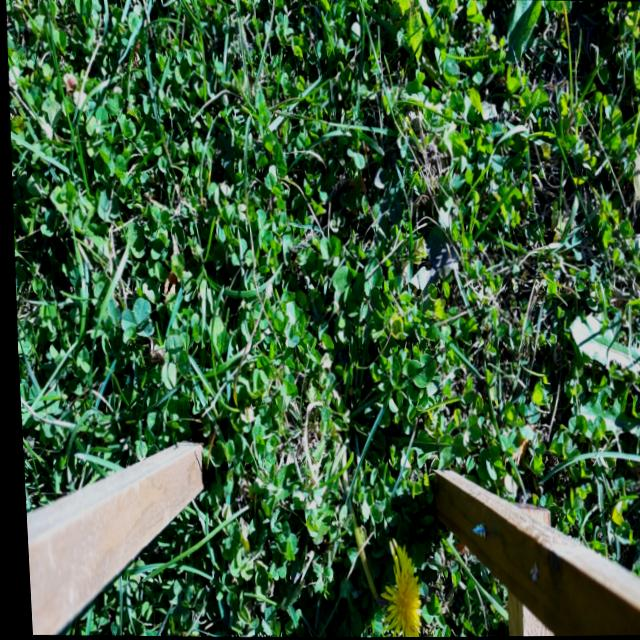base: (327, 396, 352, 434)
